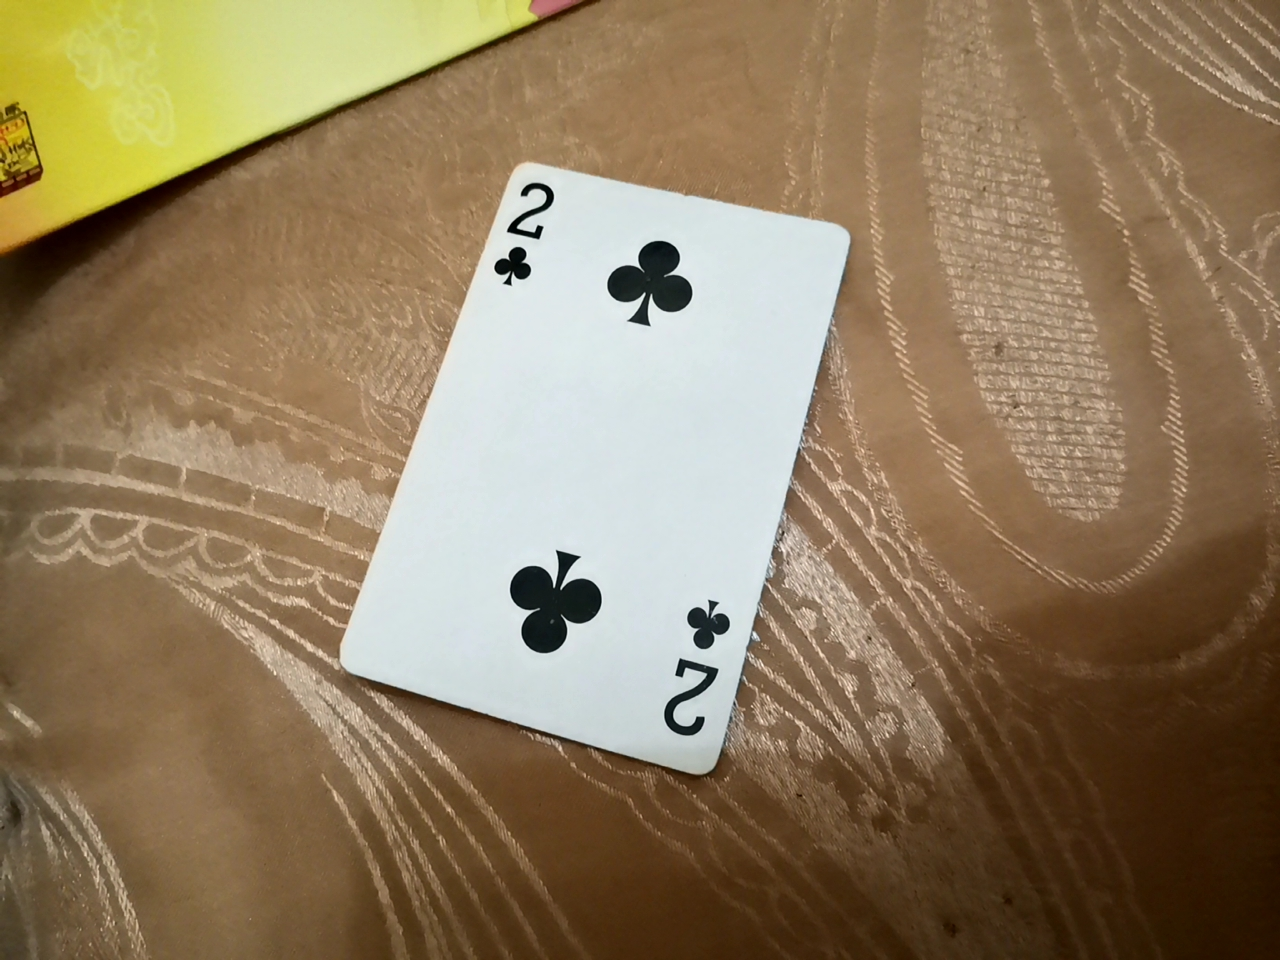mh 2: (329, 142, 869, 768)
